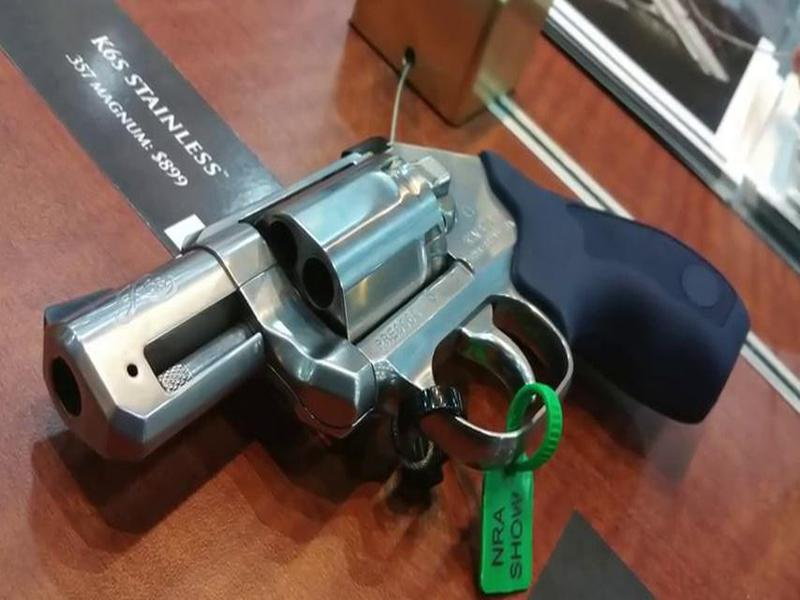Revolver: (32, 118, 765, 489)
